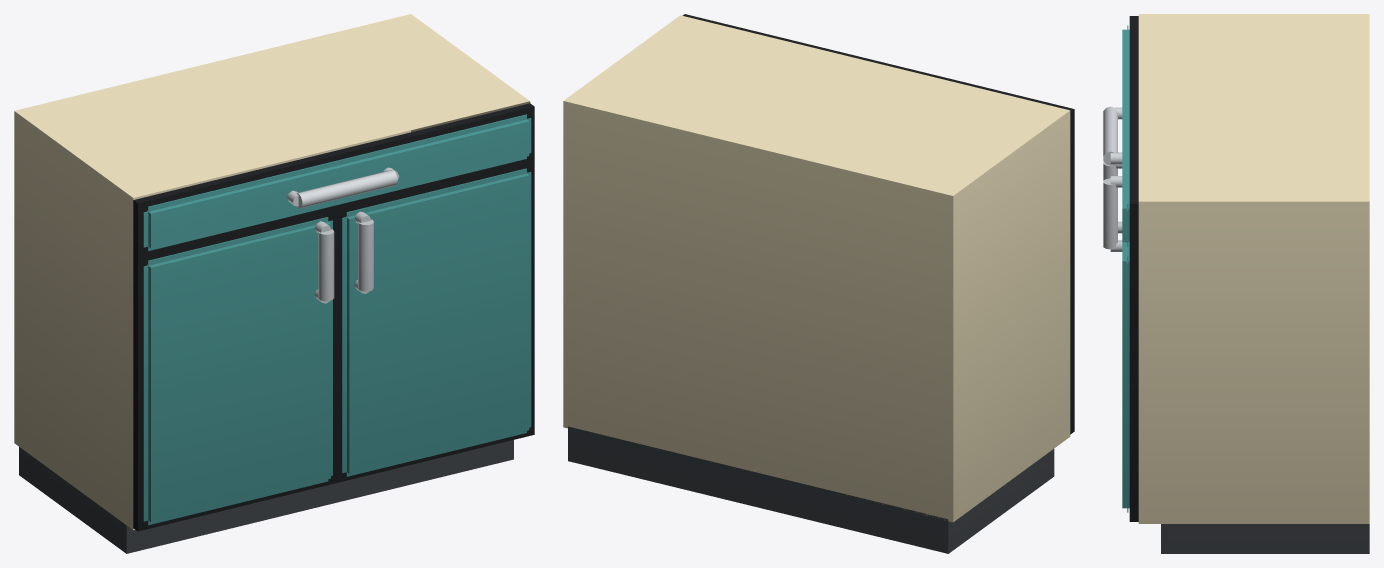
The model's file is KitCab_Base_Sink_10.glb.
The picture shows the model from 3 angles, left to right: view 1: azimuth 30°, elevation 25°; view 2: azimuth 150°, elevation 25°; view 3: azimuth 270°, elevation 25°; orthographic projection. The views are drawn at different scales.
Visible parts, largest first — view 1: SM_KitCab_Base_Sink_10; view 2: SM_KitCab_Base_Sink_10; view 3: SM_KitCab_Base_Sink_10.
Boxes of the visible parts, left/top/right/bottom form: SM_KitCab_Base_Sink_10: left=14, top=14, right=534, bottom=553; SM_KitCab_Base_Sink_10: left=563, top=14, right=1074, bottom=553; SM_KitCab_Base_Sink_10: left=1103, top=14, right=1369, bottom=553.
Size of the model in its own units: 1 by 0.88 by 0.5995.
Materials: 1 (1 with a texture image).
